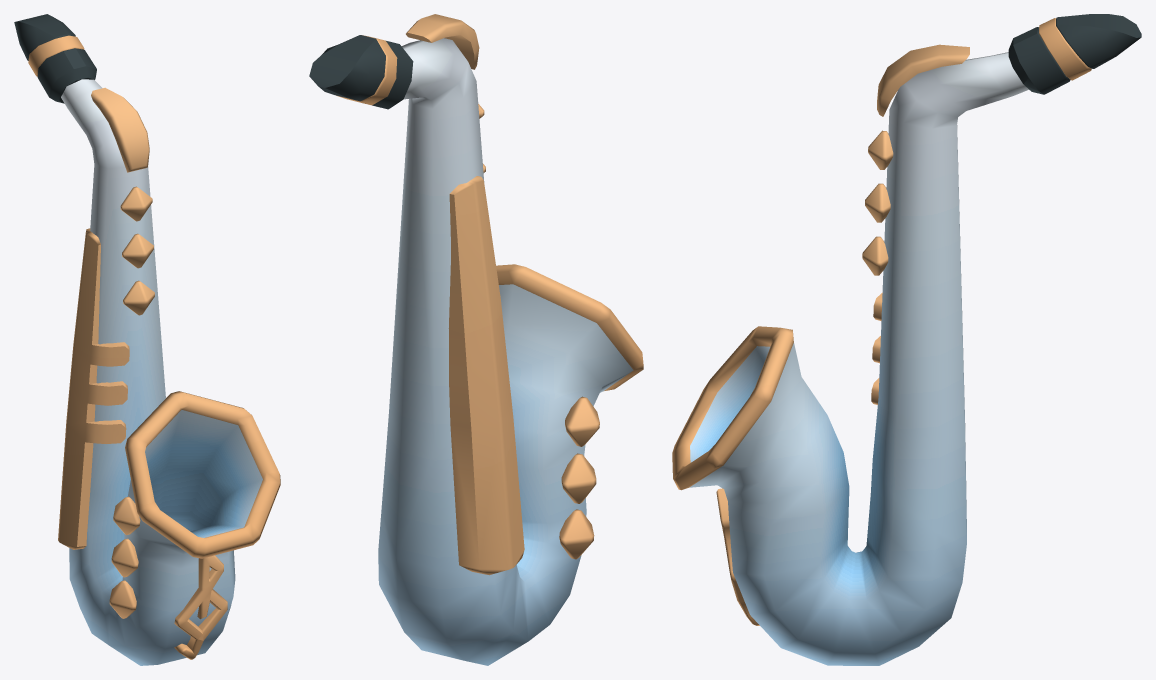
Rendered from CharSkyKid_Prop_Saxophone.glb.
3 renders of one model, left to right at view 1: azimuth 30°, elevation 25°; view 2: azimuth 150°, elevation 25°; view 3: azimuth 270°, elevation 25°, orthographic. The views are drawn at different scales.
Parts seen in each view (by area): view 1: CharSkyKid_Prop_Saxophone; view 2: CharSkyKid_Prop_Saxophone; view 3: CharSkyKid_Prop_Saxophone.
Boxes of the visible parts, box(x1,y1,x2,y2) form: CharSkyKid_Prop_Saxophone: box(14, 14, 280, 665); CharSkyKid_Prop_Saxophone: box(309, 14, 643, 665); CharSkyKid_Prop_Saxophone: box(672, 14, 1141, 665).
Size of the model in its own units: 1.6 by 5.9 by 3.95.
1 material, 1 textured.
